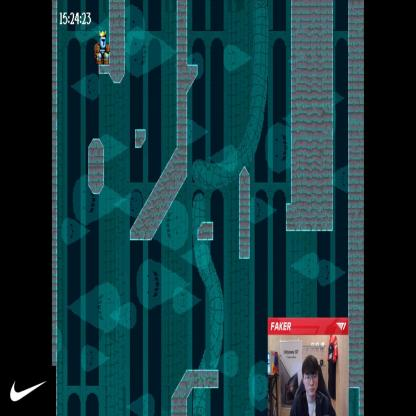streamer: (290, 355, 336, 416)
